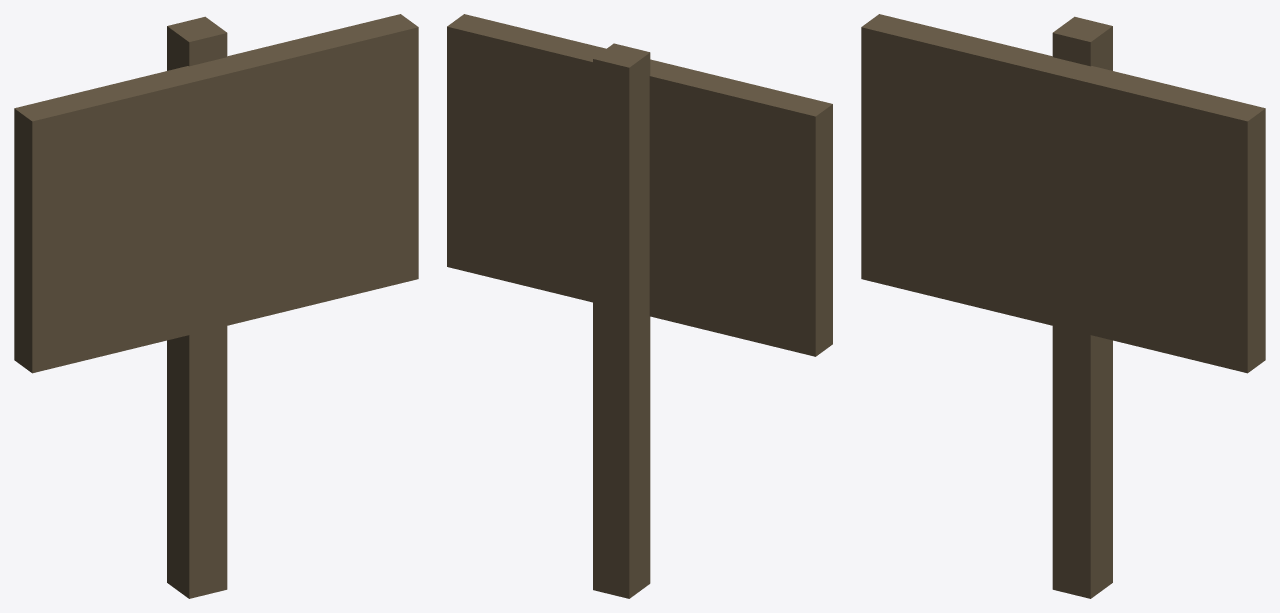
File: Sign.fbx
3 views of the same model, side by side, from view 1: azimuth 30°, elevation 25°; view 2: azimuth 150°, elevation 25°; view 3: azimuth 330°, elevation 25° (orthographic). The views are drawn at different scales.
Parts seen in each view (by area): view 1: SignArrow; view 2: SignArrow; view 3: SignArrow.
Part boxes in pixels (bbox=[...]): SignArrow: bbox=[14, 14, 418, 598]; SignArrow: bbox=[447, 14, 832, 598]; SignArrow: bbox=[861, 14, 1265, 598].
Size of the model in its own units: 98.57 by 136 by 17.36.
